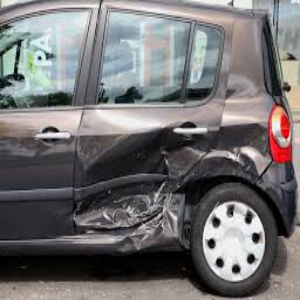door: (48, 147, 195, 247)
